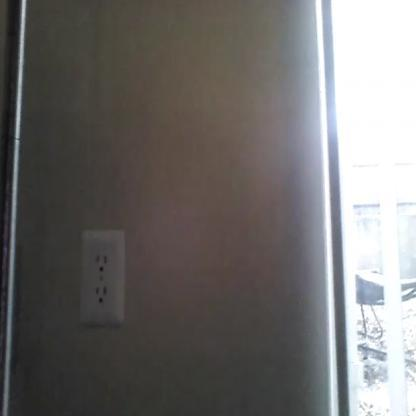OUTLET: (80, 230, 123, 324)
